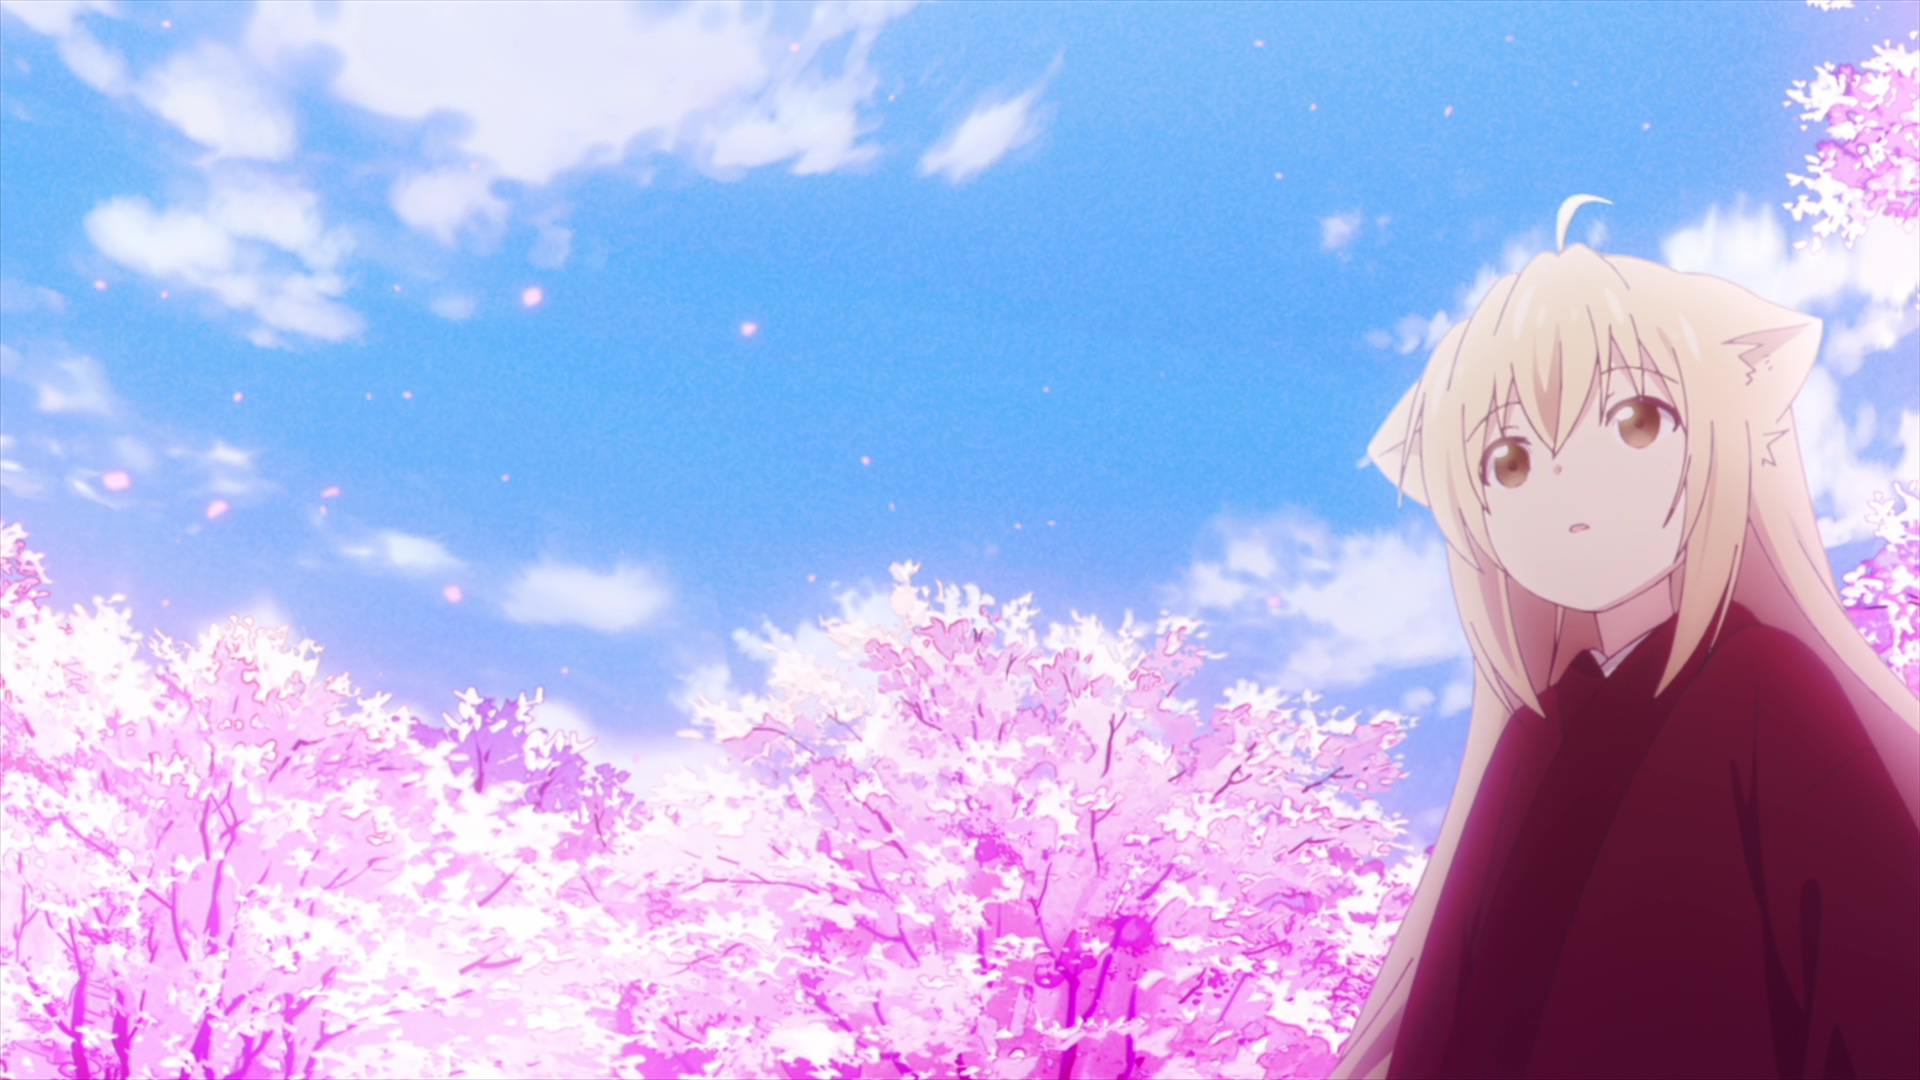柚: (1323, 191, 1920, 1080)
